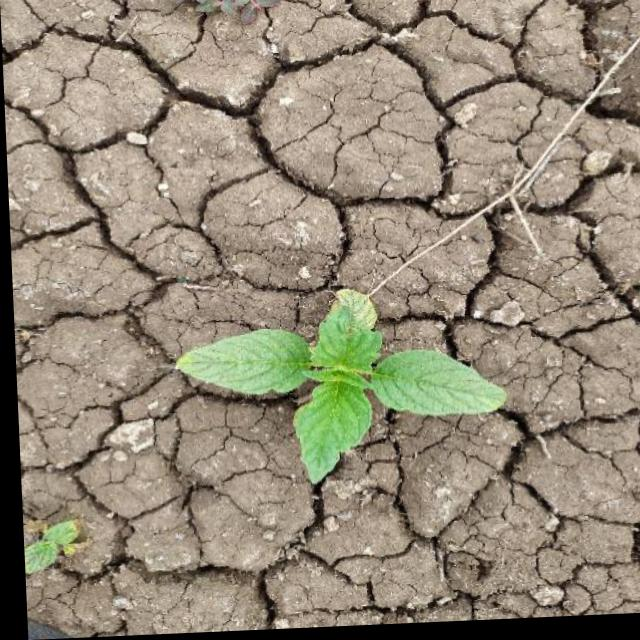crop: (169, 295, 505, 486)
